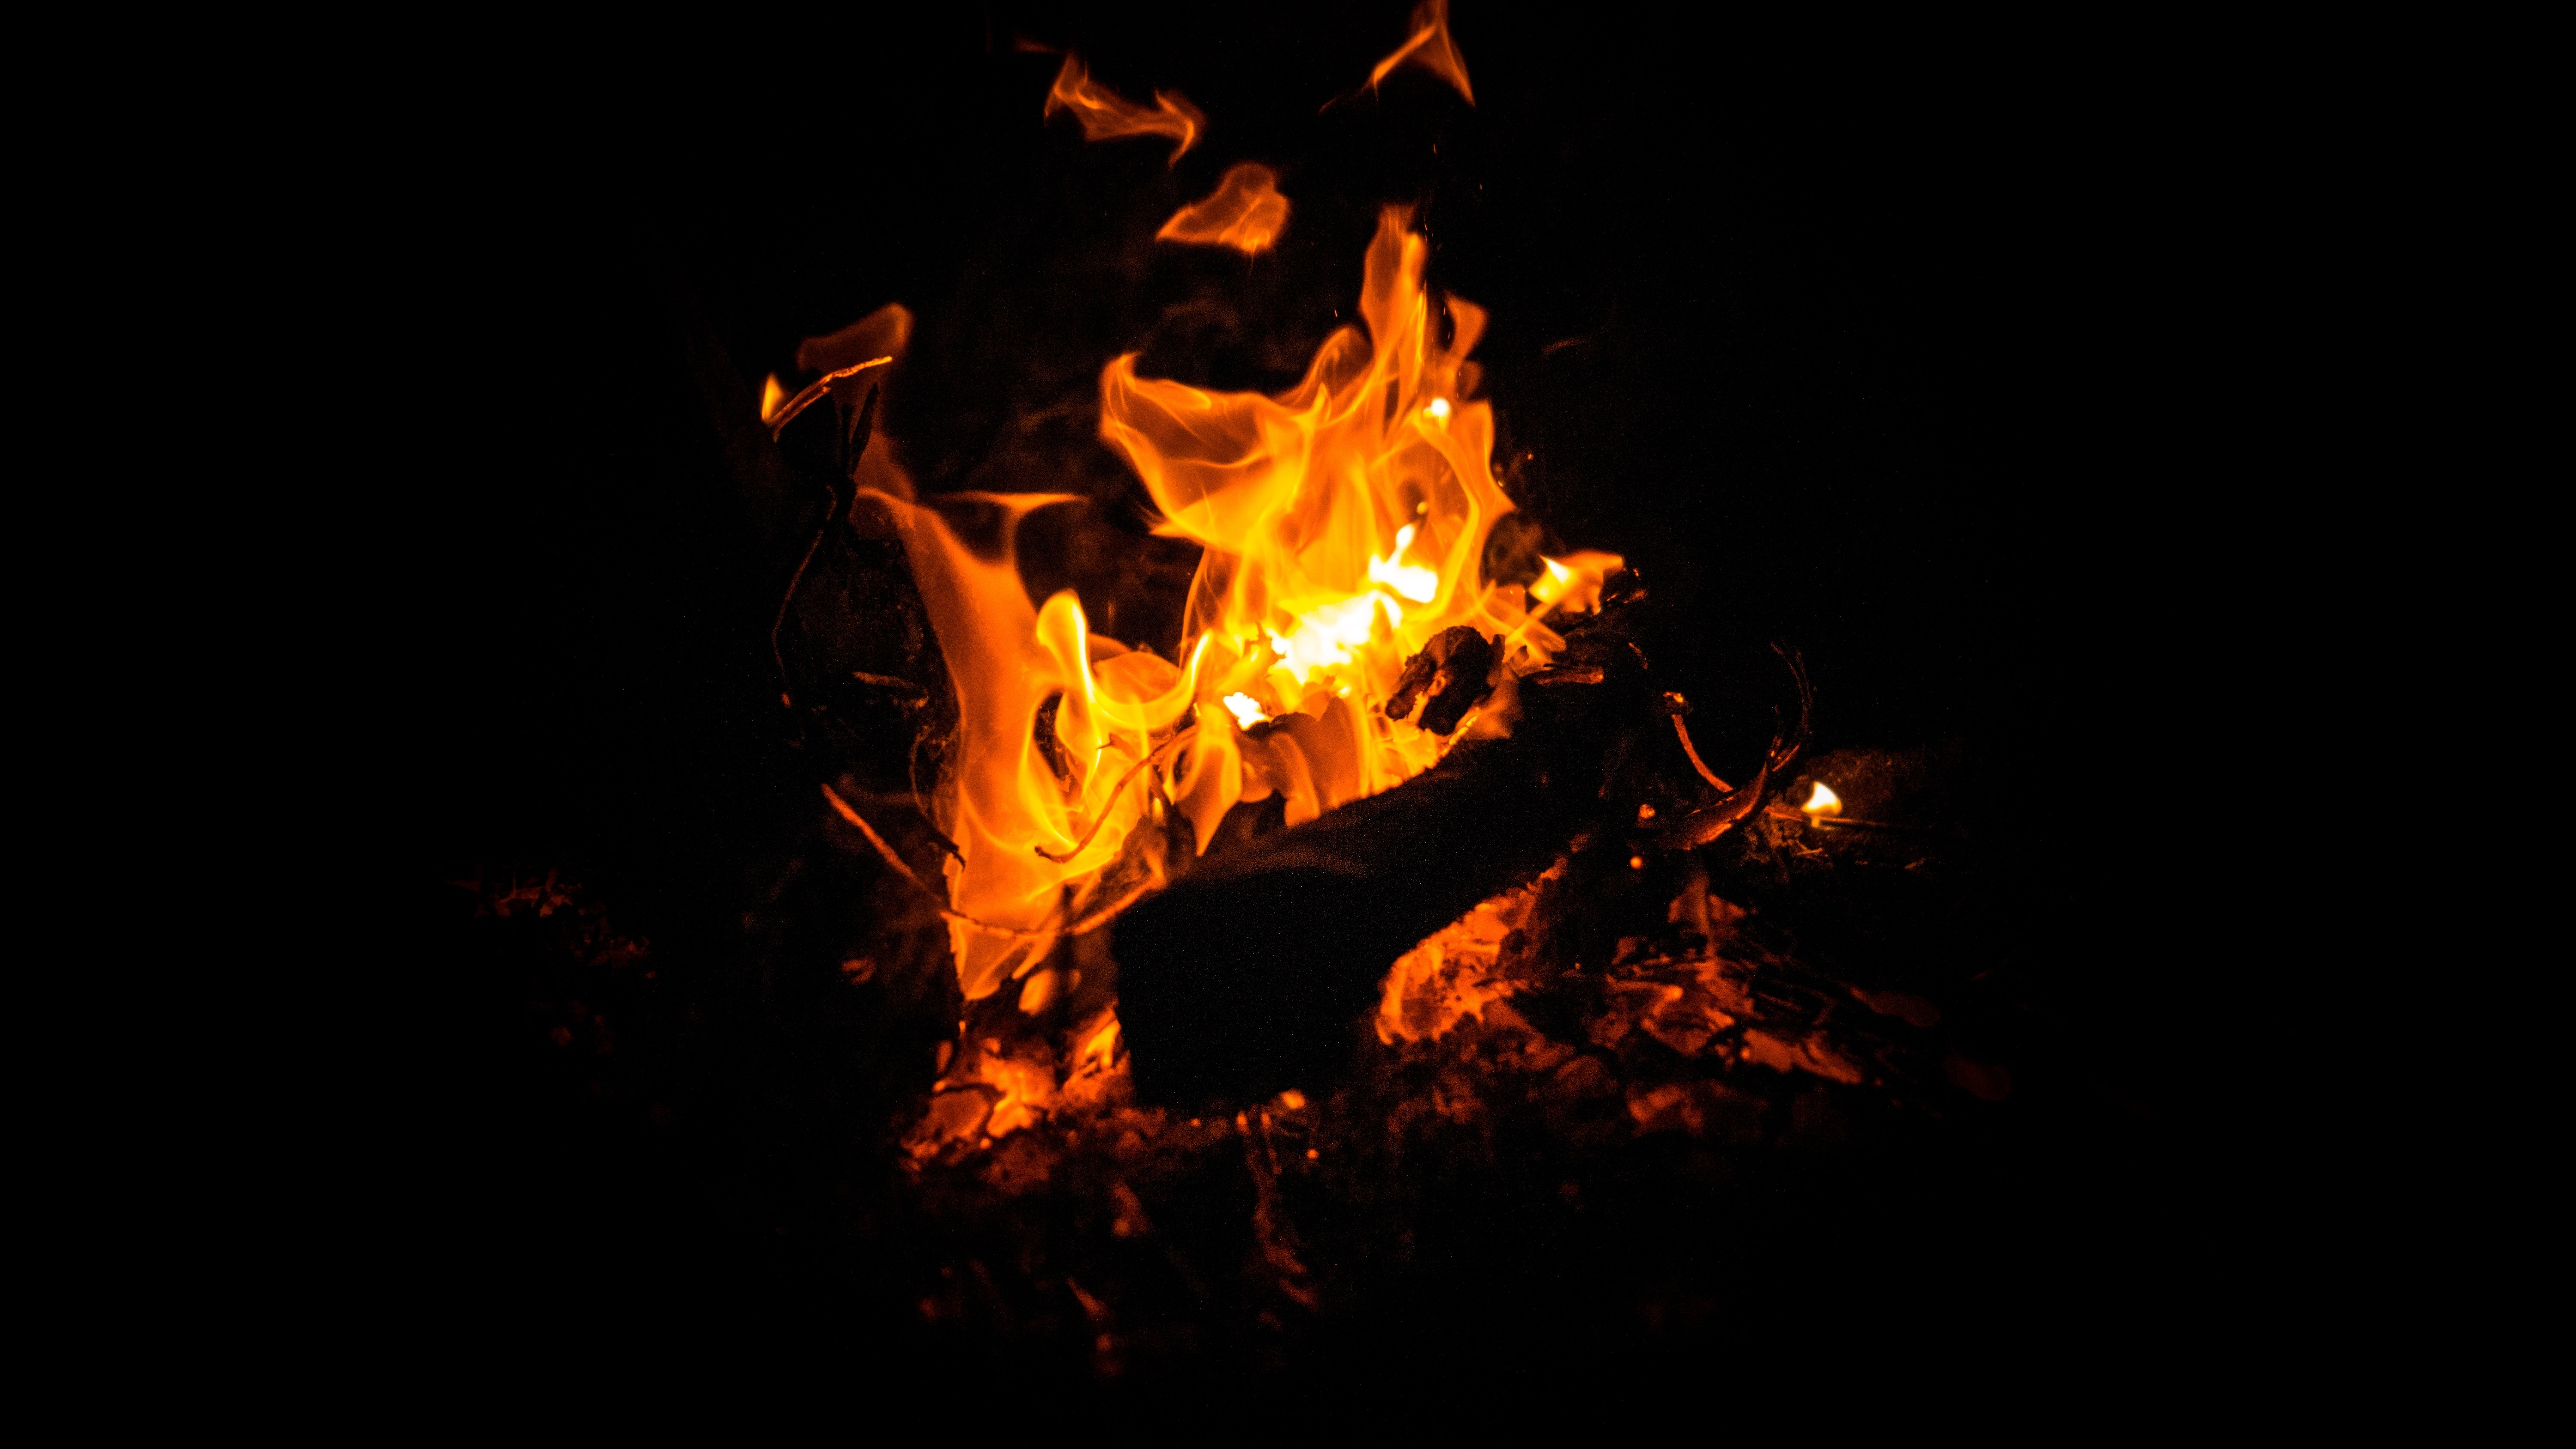fire: (786, 64, 1693, 1180)
